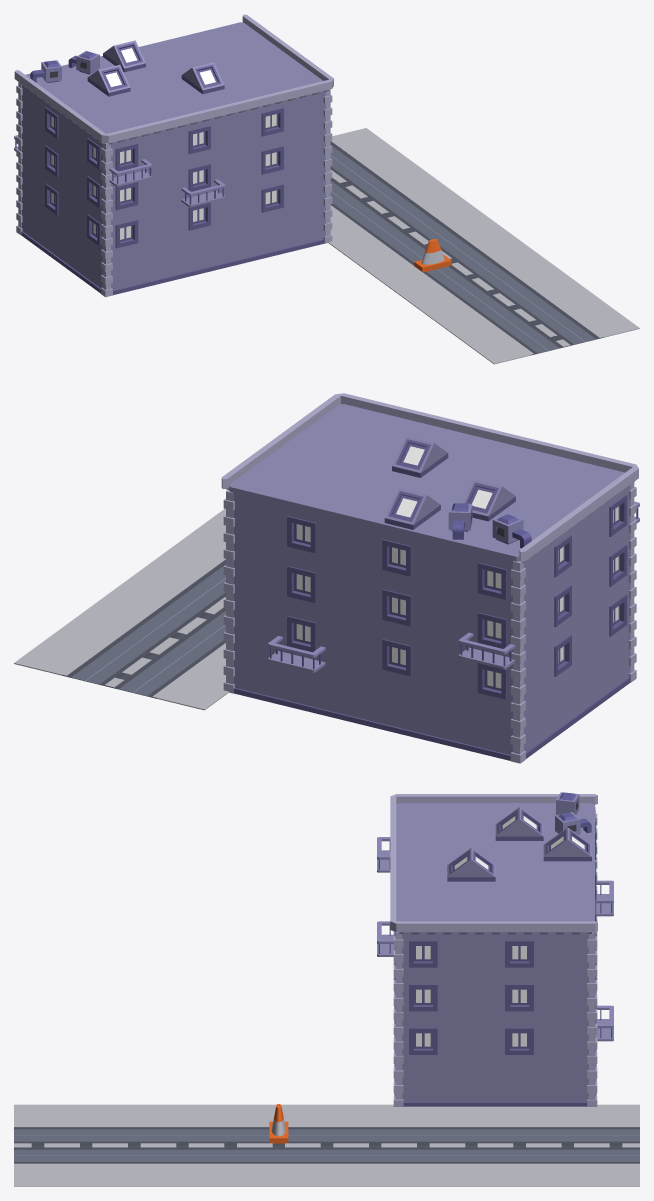
Rendered from map.glb.
The picture shows the model from 3 angles, top to bottom: view 1: azimuth 30°, elevation 25°; view 2: azimuth 150°, elevation 25°; view 3: azimuth 270°, elevation 25°; orthographic projection. The views are drawn at different scales.
Visible parts, largest first — view 1: mergedBlocks(Clone); view 2: mergedBlocks(Clone); view 3: mergedBlocks(Clone).
Boxes of the visible parts, <box> form: mergedBlocks(Clone): <box>14,14,639,364</box>; mergedBlocks(Clone): <box>14,393,639,763</box>; mergedBlocks(Clone): <box>14,792,639,1186</box>.
Size of the model in its own units: 10.19 by 4.6 by 13.
Materials: 1 (1 with a texture image).
